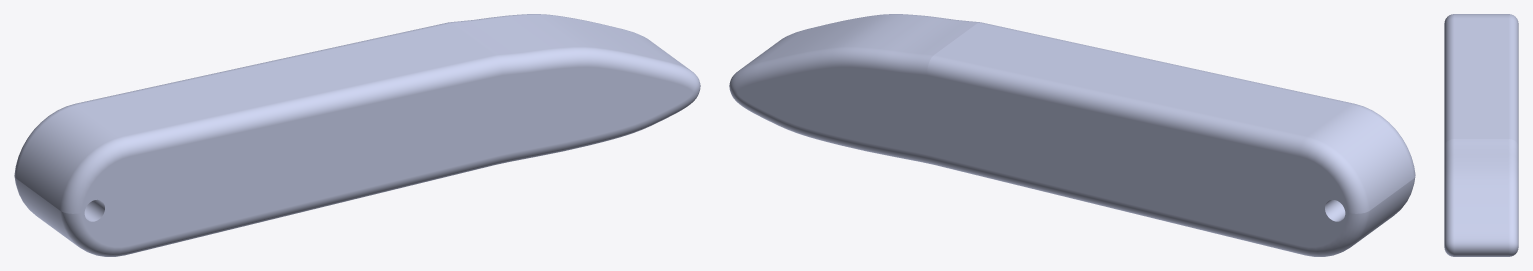
The model's file is jaco2_link_finger.dae.
3 views of the same model, side by side, from view 1: azimuth 30°, elevation 25°; view 2: azimuth 150°, elevation 25°; view 3: azimuth 270°, elevation 25° (orthographic). The views are drawn at different scales.
Parts seen in each view (by area): view 1: Actor0; view 2: Actor0; view 3: Actor0.
Boxes of the visible parts, x1,y1,x2,y2 form: Actor0: [14, 14, 700, 256]; Actor0: [729, 14, 1415, 256]; Actor0: [1444, 14, 1518, 256].
Size of the model in its own units: 0.1188 by 0.0215 by 0.0191.
